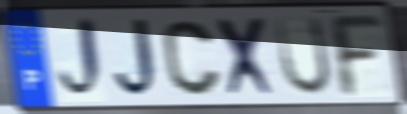C: (160, 18, 224, 98)
F: (324, 12, 386, 100)
J: (56, 14, 108, 105), (112, 15, 165, 102)
U: (272, 14, 334, 99)
X: (213, 15, 281, 100)
